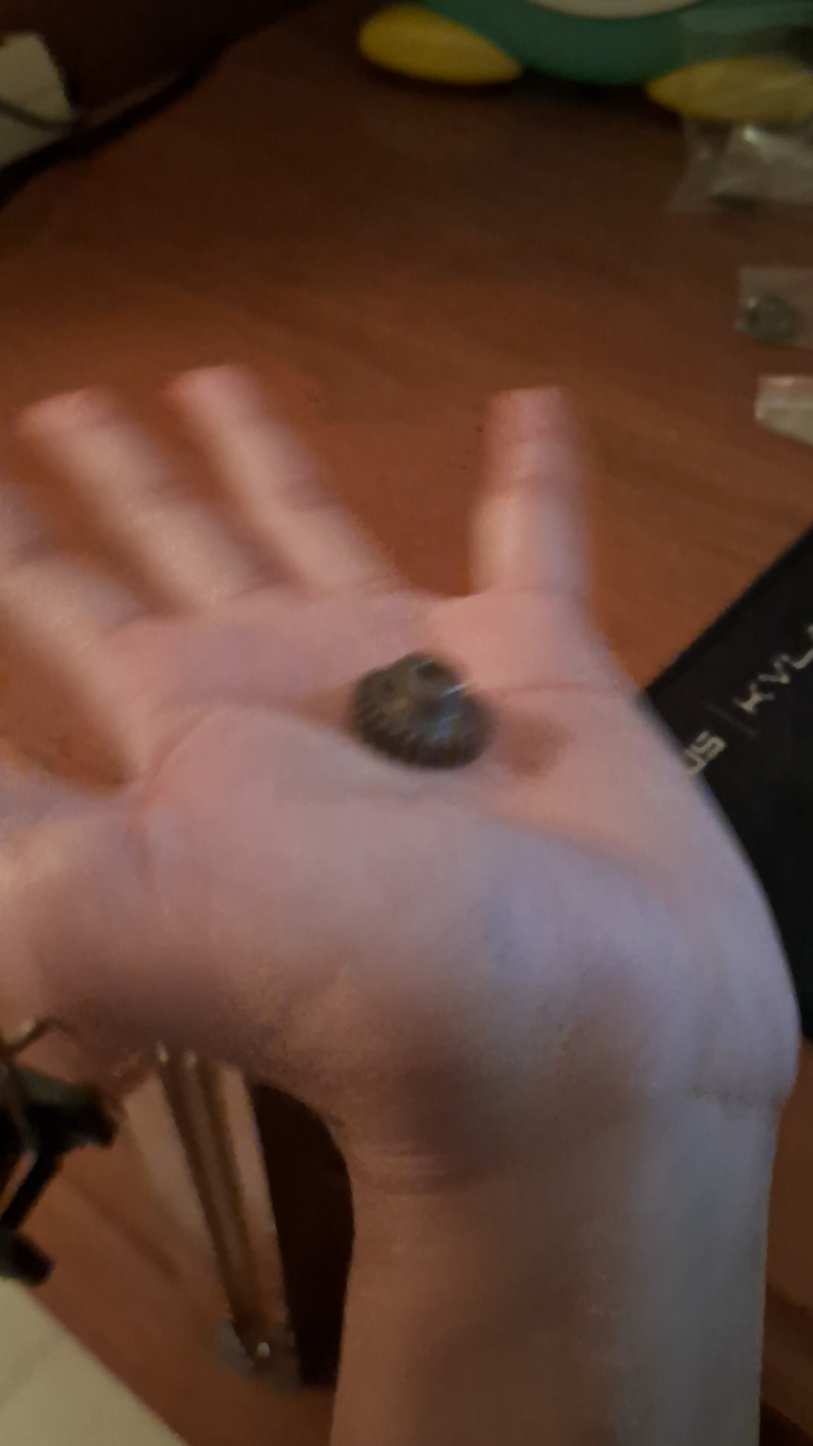spur gear: (349, 654, 492, 771)
